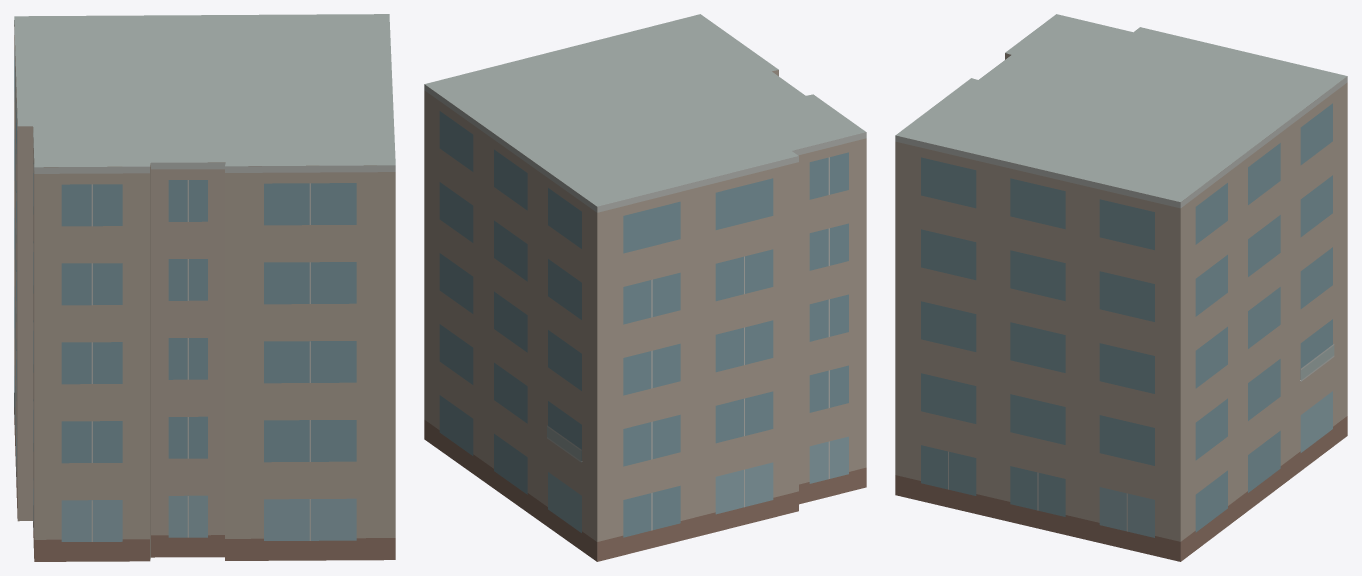
File: survey-upis-32654501.glb
3 renders of one model, left to right at view 1: azimuth 30°, elevation 25°; view 2: azimuth 150°, elevation 25°; view 3: azimuth 270°, elevation 25°, orthographic. The views are drawn at different scales.
Parts seen in each view (by area): view 1: survey-upis-32654501.tmp; view 2: survey-upis-32654501.tmp; view 3: survey-upis-32654501.tmp.
Boxes of the visible parts, <box> form: survey-upis-32654501.tmp: <box>14,14,395,561</box>; survey-upis-32654501.tmp: <box>424,14,866,561</box>; survey-upis-32654501.tmp: <box>895,14,1347,561</box>.
Bounding box in the file's own units: 15.94 × 14.2 × 16.19.
